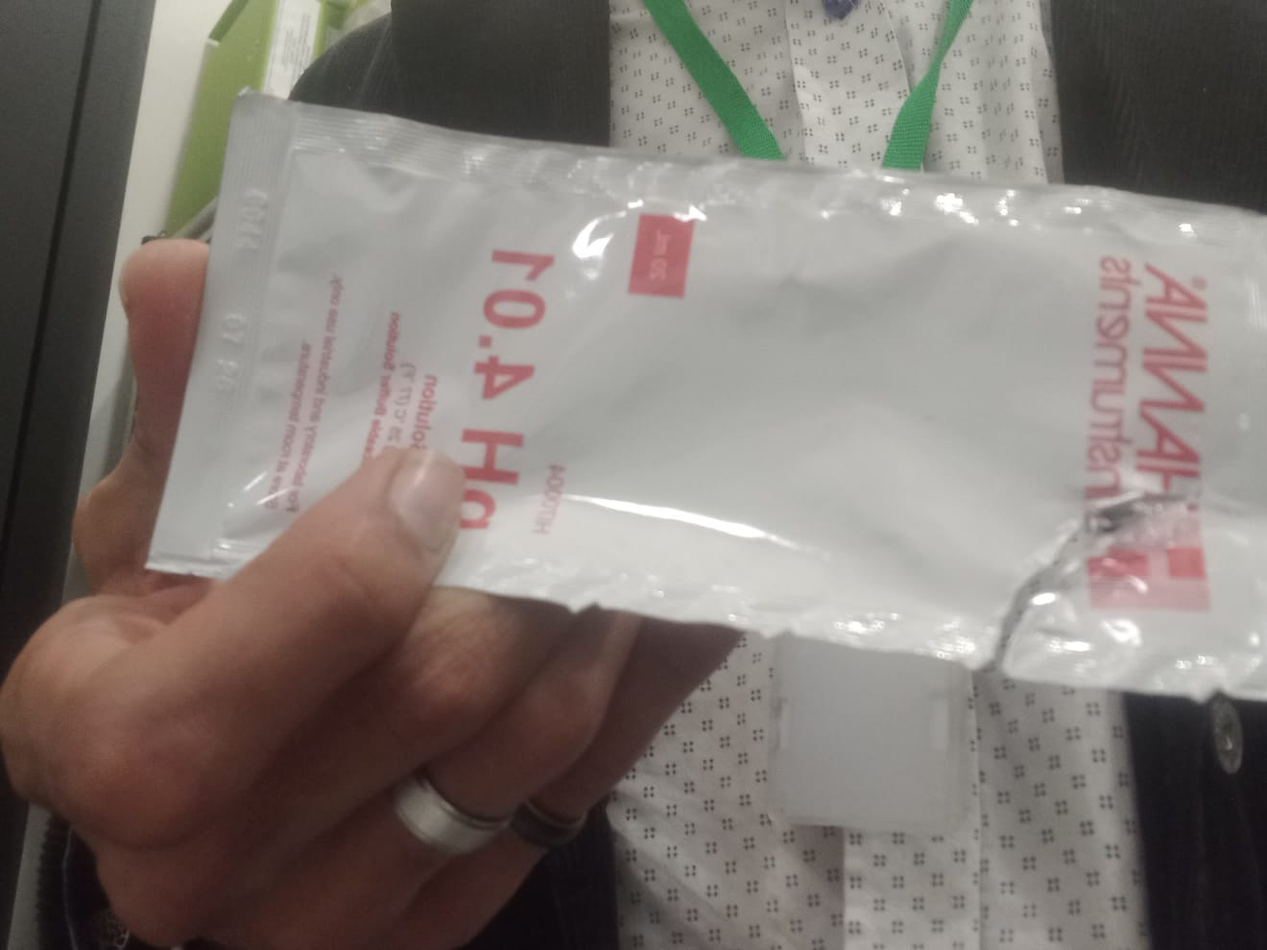Ordinario: (147, 94, 1267, 704)
